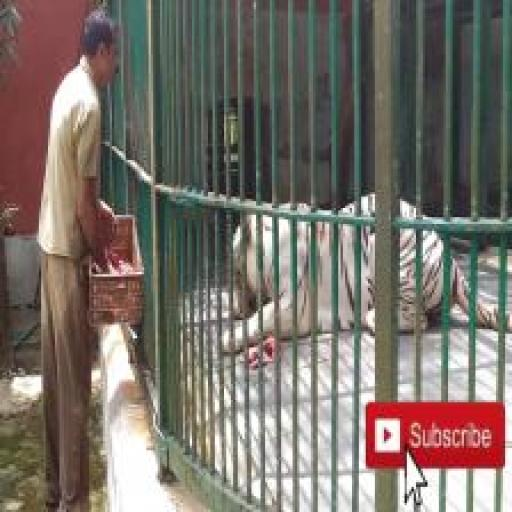Tiger: (219, 190, 511, 354)
